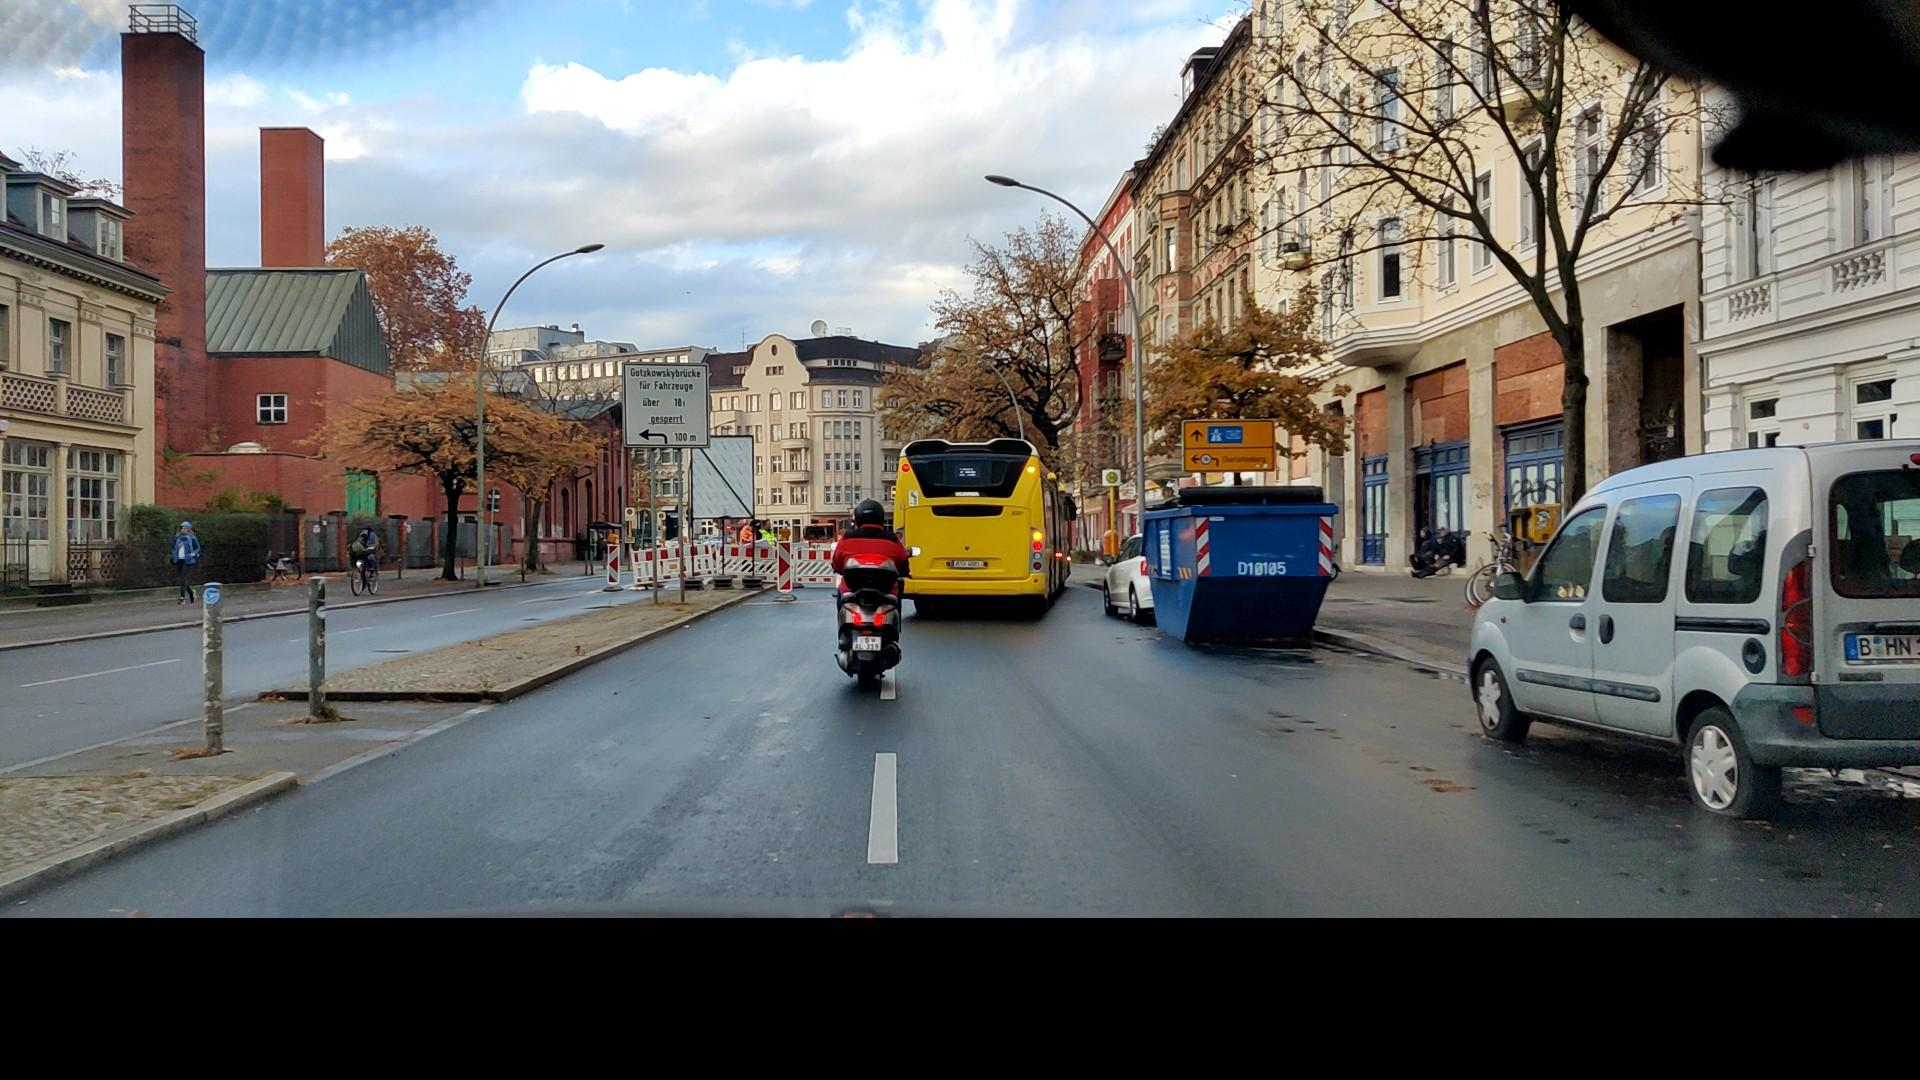Human face: (179, 522, 191, 535), (360, 527, 369, 536)
Vehicle registration plate: (1844, 634, 1916, 661), (851, 634, 882, 652), (951, 560, 984, 569)
